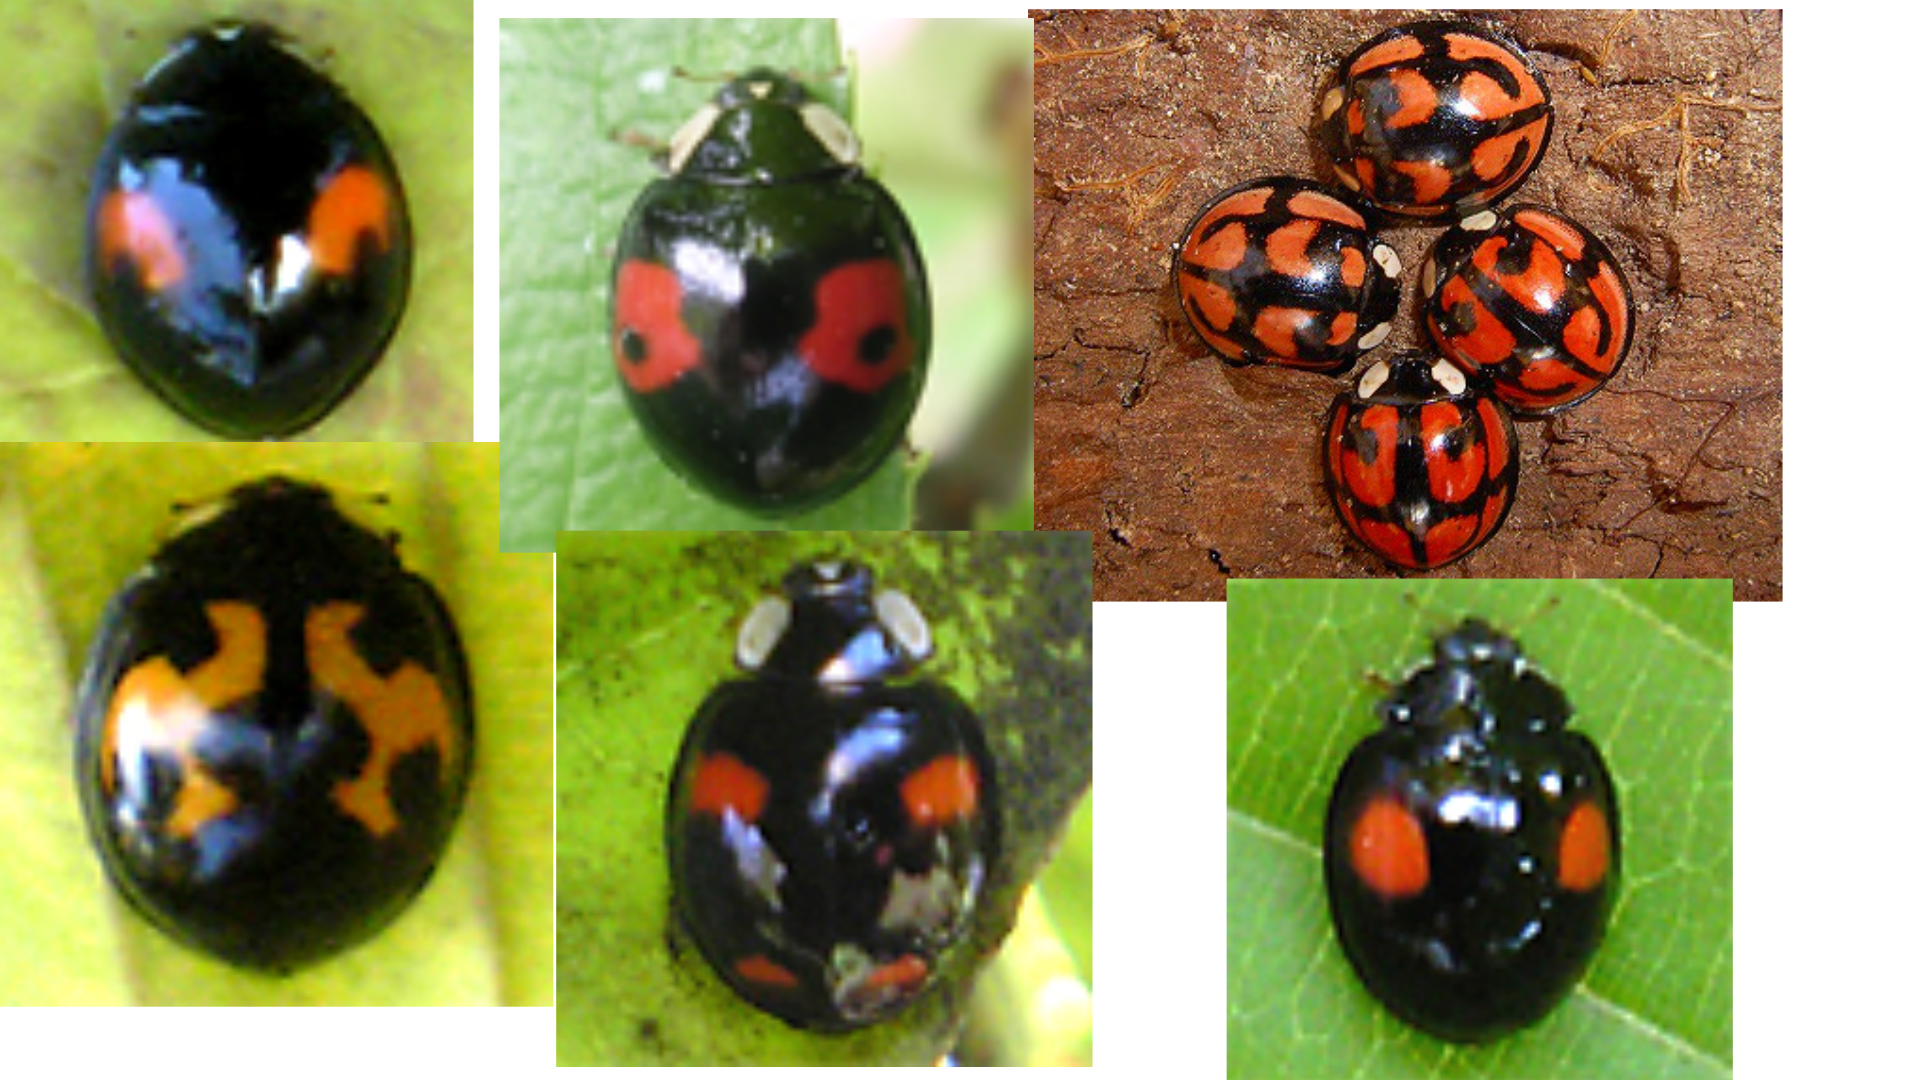none: (71, 473, 469, 967)
other: (1167, 182, 1407, 373), (1418, 203, 1629, 418), (1324, 347, 1522, 568), (1324, 21, 1545, 218)
two_spots: (605, 74, 932, 512), (84, 26, 422, 444), (1317, 612, 1633, 1044)
two_spots_mutant: (666, 555, 1004, 1029)
